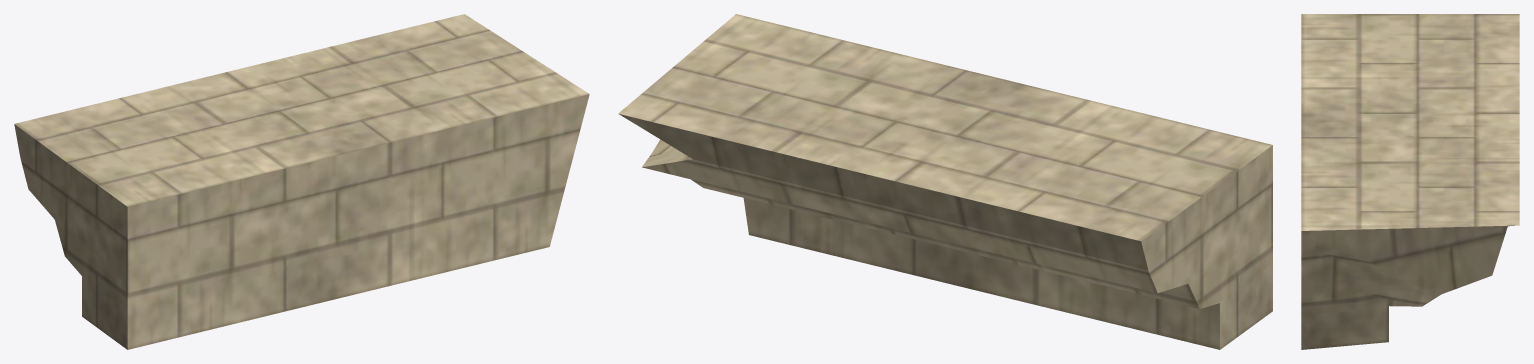
File: debris_seattle_terracotta_cornice.glb
The picture shows the model from 3 angles, left to right: view 1: azimuth 30°, elevation 25°; view 2: azimuth 150°, elevation 25°; view 3: azimuth 270°, elevation 25°; orthographic projection. The views are drawn at different scales.
Visible parts, largest first — view 1: debris_seattle_terracotta_cornice; view 2: debris_seattle_terracotta_cornice; view 3: debris_seattle_terracotta_cornice.
Part boxes in pixels (x1,y1,x2,y2): debris_seattle_terracotta_cornice: (14,14,589,349); debris_seattle_terracotta_cornice: (618,14,1272,349); debris_seattle_terracotta_cornice: (1301,14,1519,349).
Size of the model in its own units: 2.64 by 0.7801 by 1.12.
1 material, 1 textured.
